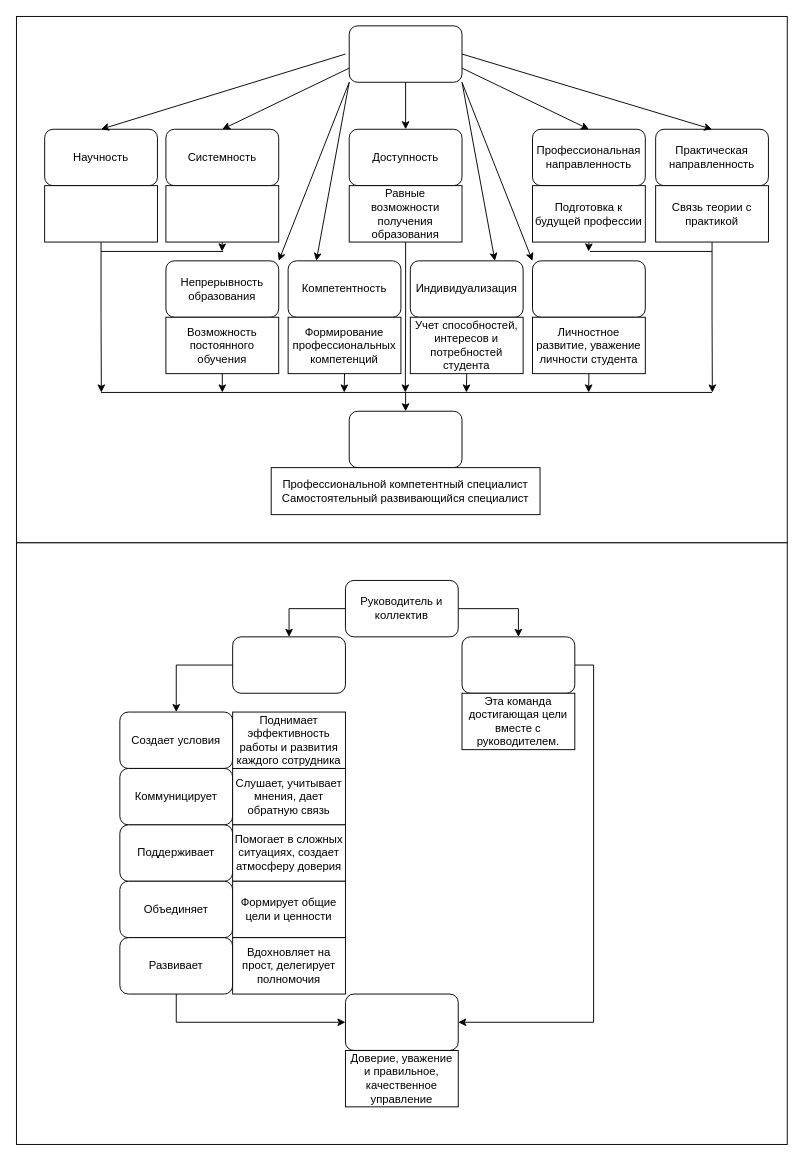
This 804x1161 diagram has some shape labels left out. Each missing label, with the centre of its shape:
"Гуманизация" goes at pixel 588 288.
"Единство всех элементов образования" goes at pixel 222 213.
"Коллектив" goes at pixel 518 664.
"Принципы формирования высшего образования" goes at pixel 405 53.
"Результат" goes at pixel 405 439.
"Руководитель" goes at pixel 288 664.
"Связь с современными научными знаниями" goes at pixel 100 213.
"Сильный коллектив" goes at pixel 401 1021.
